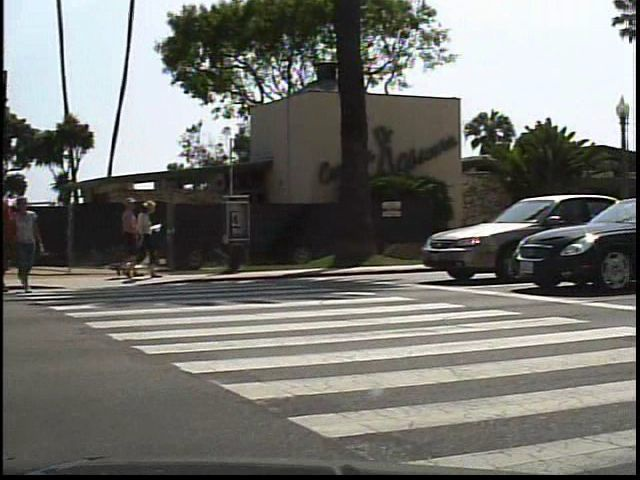person: (19, 194, 53, 295)
